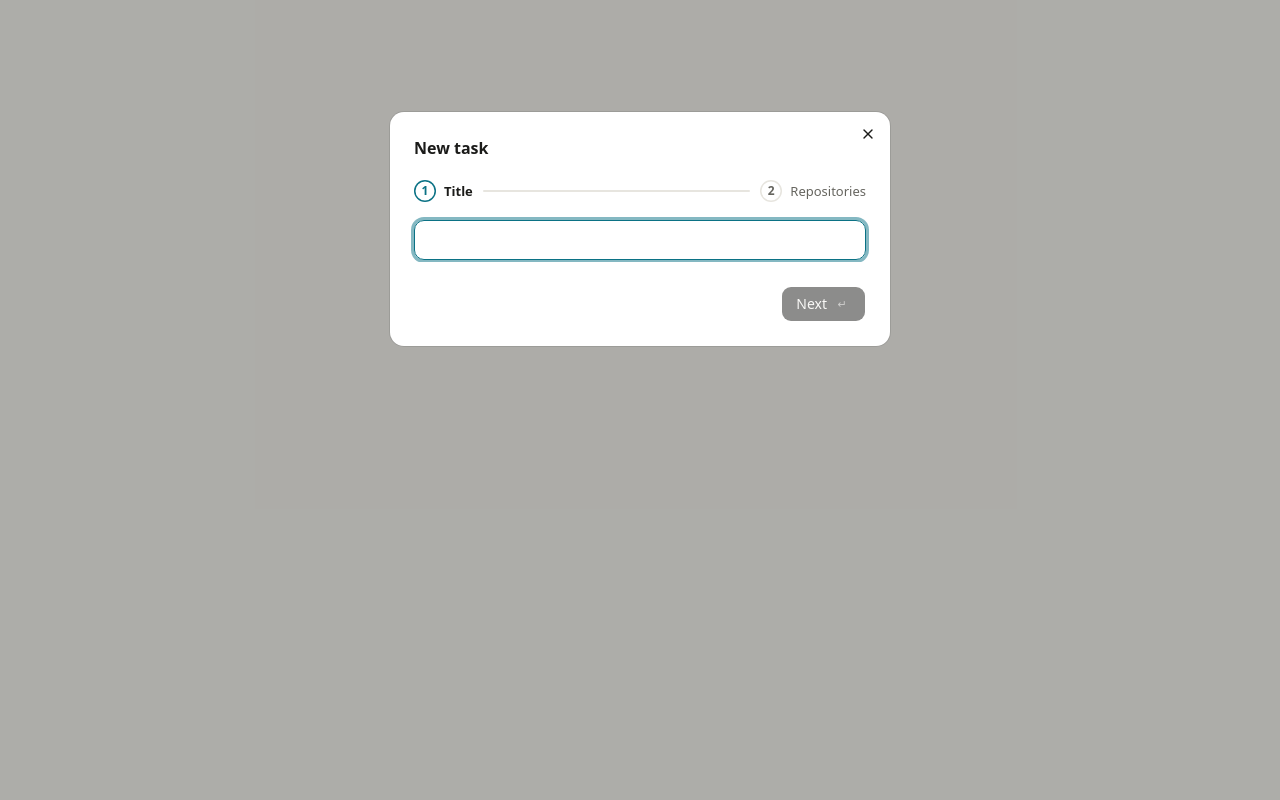
Test: a new task from the page › says in the box why serve could not start it, and keeps what was asked
Type "no herdr" into the field named "Title" at (640, 240), box left=414, top=220, right=866, bottom=260
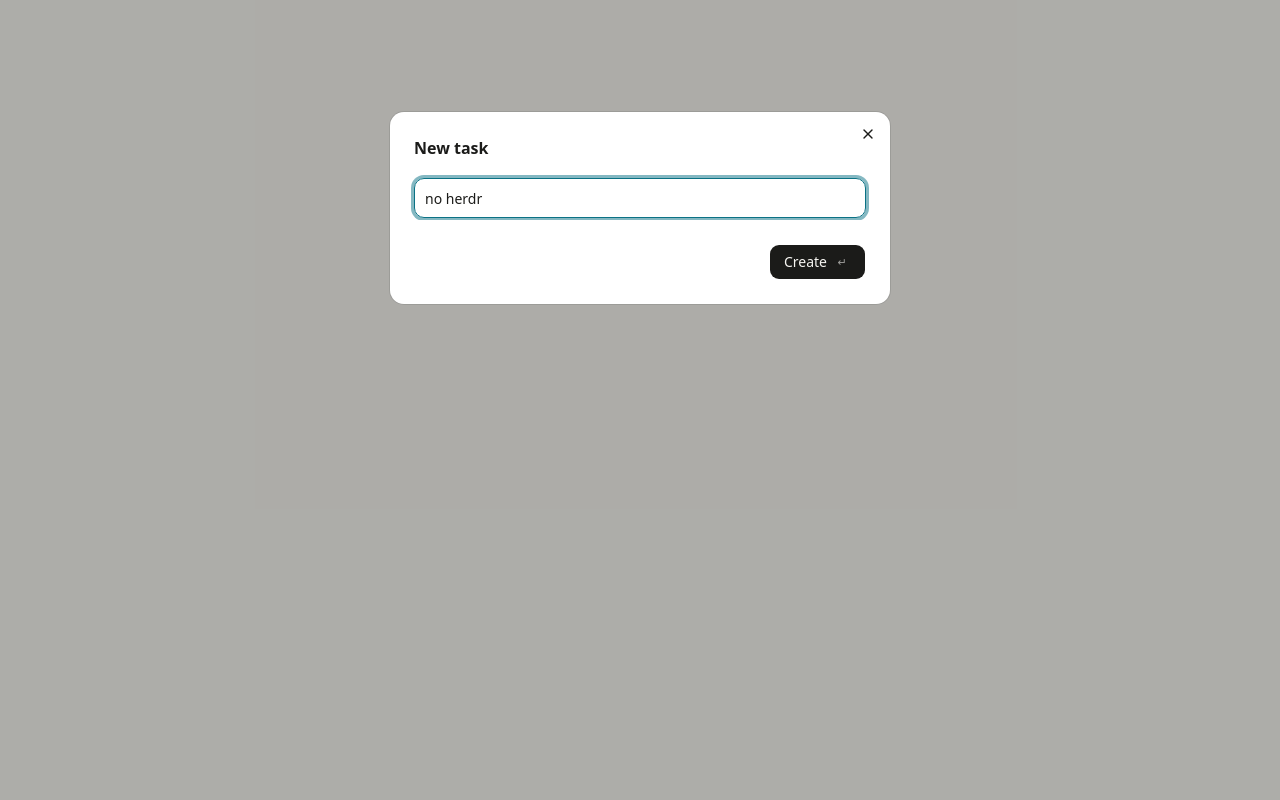
Press Enter
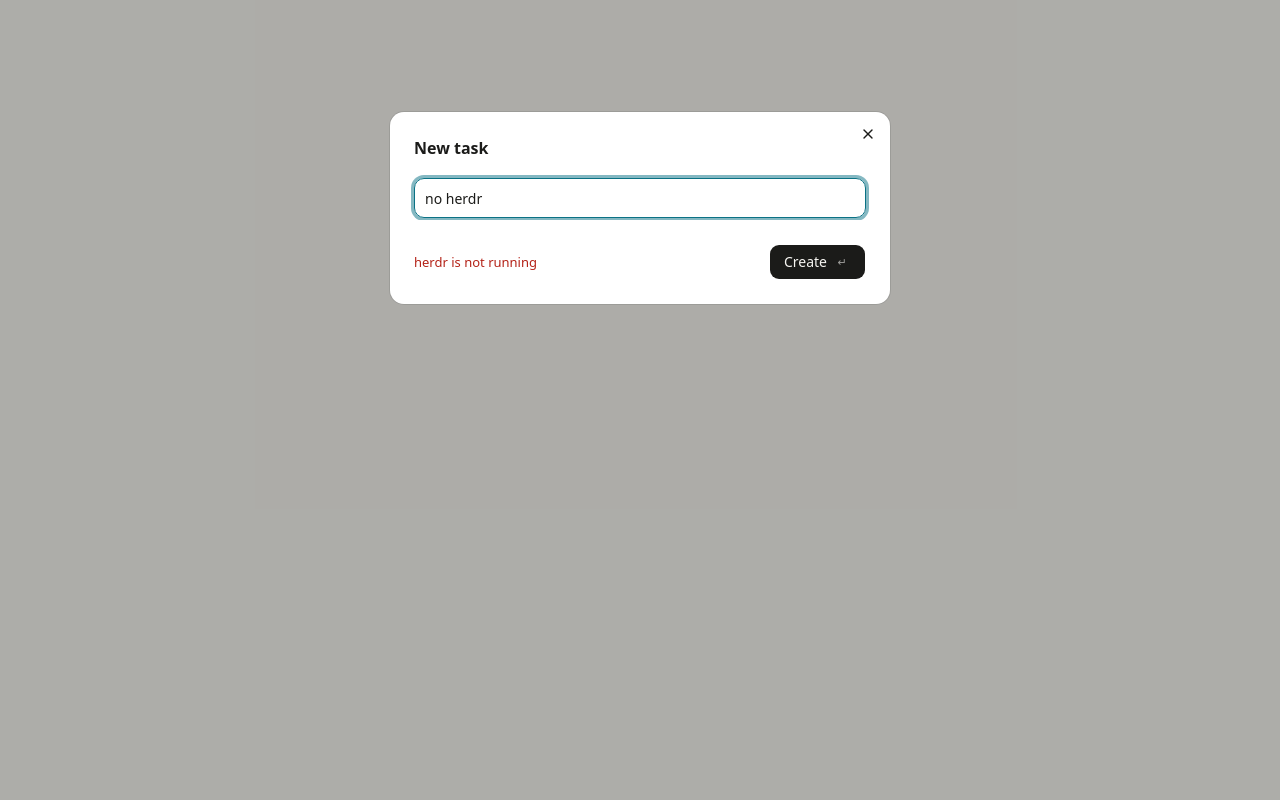
Expected: the message reads "herdr is not running", left=414, top=253, right=537, bottom=271
